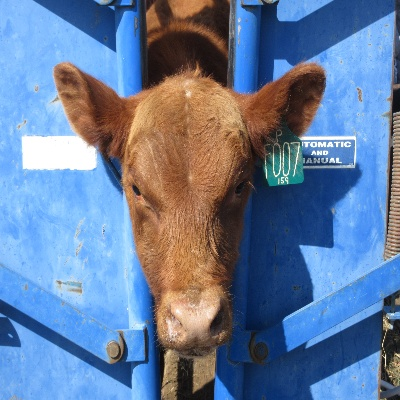fidget_spinner: (163, 302, 228, 344)
